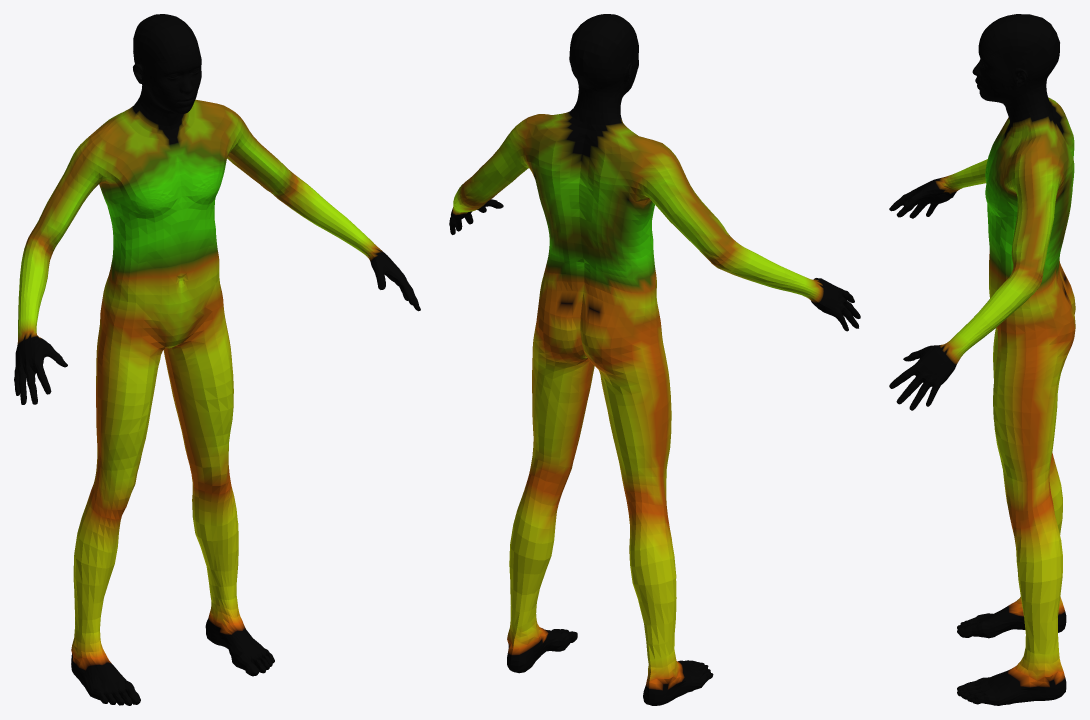
Rendered from male-lean.glb.
3 views of the same model, side by side, from view 1: azimuth 30°, elevation 25°; view 2: azimuth 150°, elevation 25°; view 3: azimuth 270°, elevation 25° (orthographic).
Parts seen in each view (by area): view 1: world; view 2: world; view 3: world.
Boxes of the visible parts, x1,y1,x2,y2 form: world: [14, 14, 420, 705]; world: [449, 14, 860, 705]; world: [889, 14, 1075, 705].
Bounding box in the file's own units: 1.29 × 2.01 × 0.5244.
